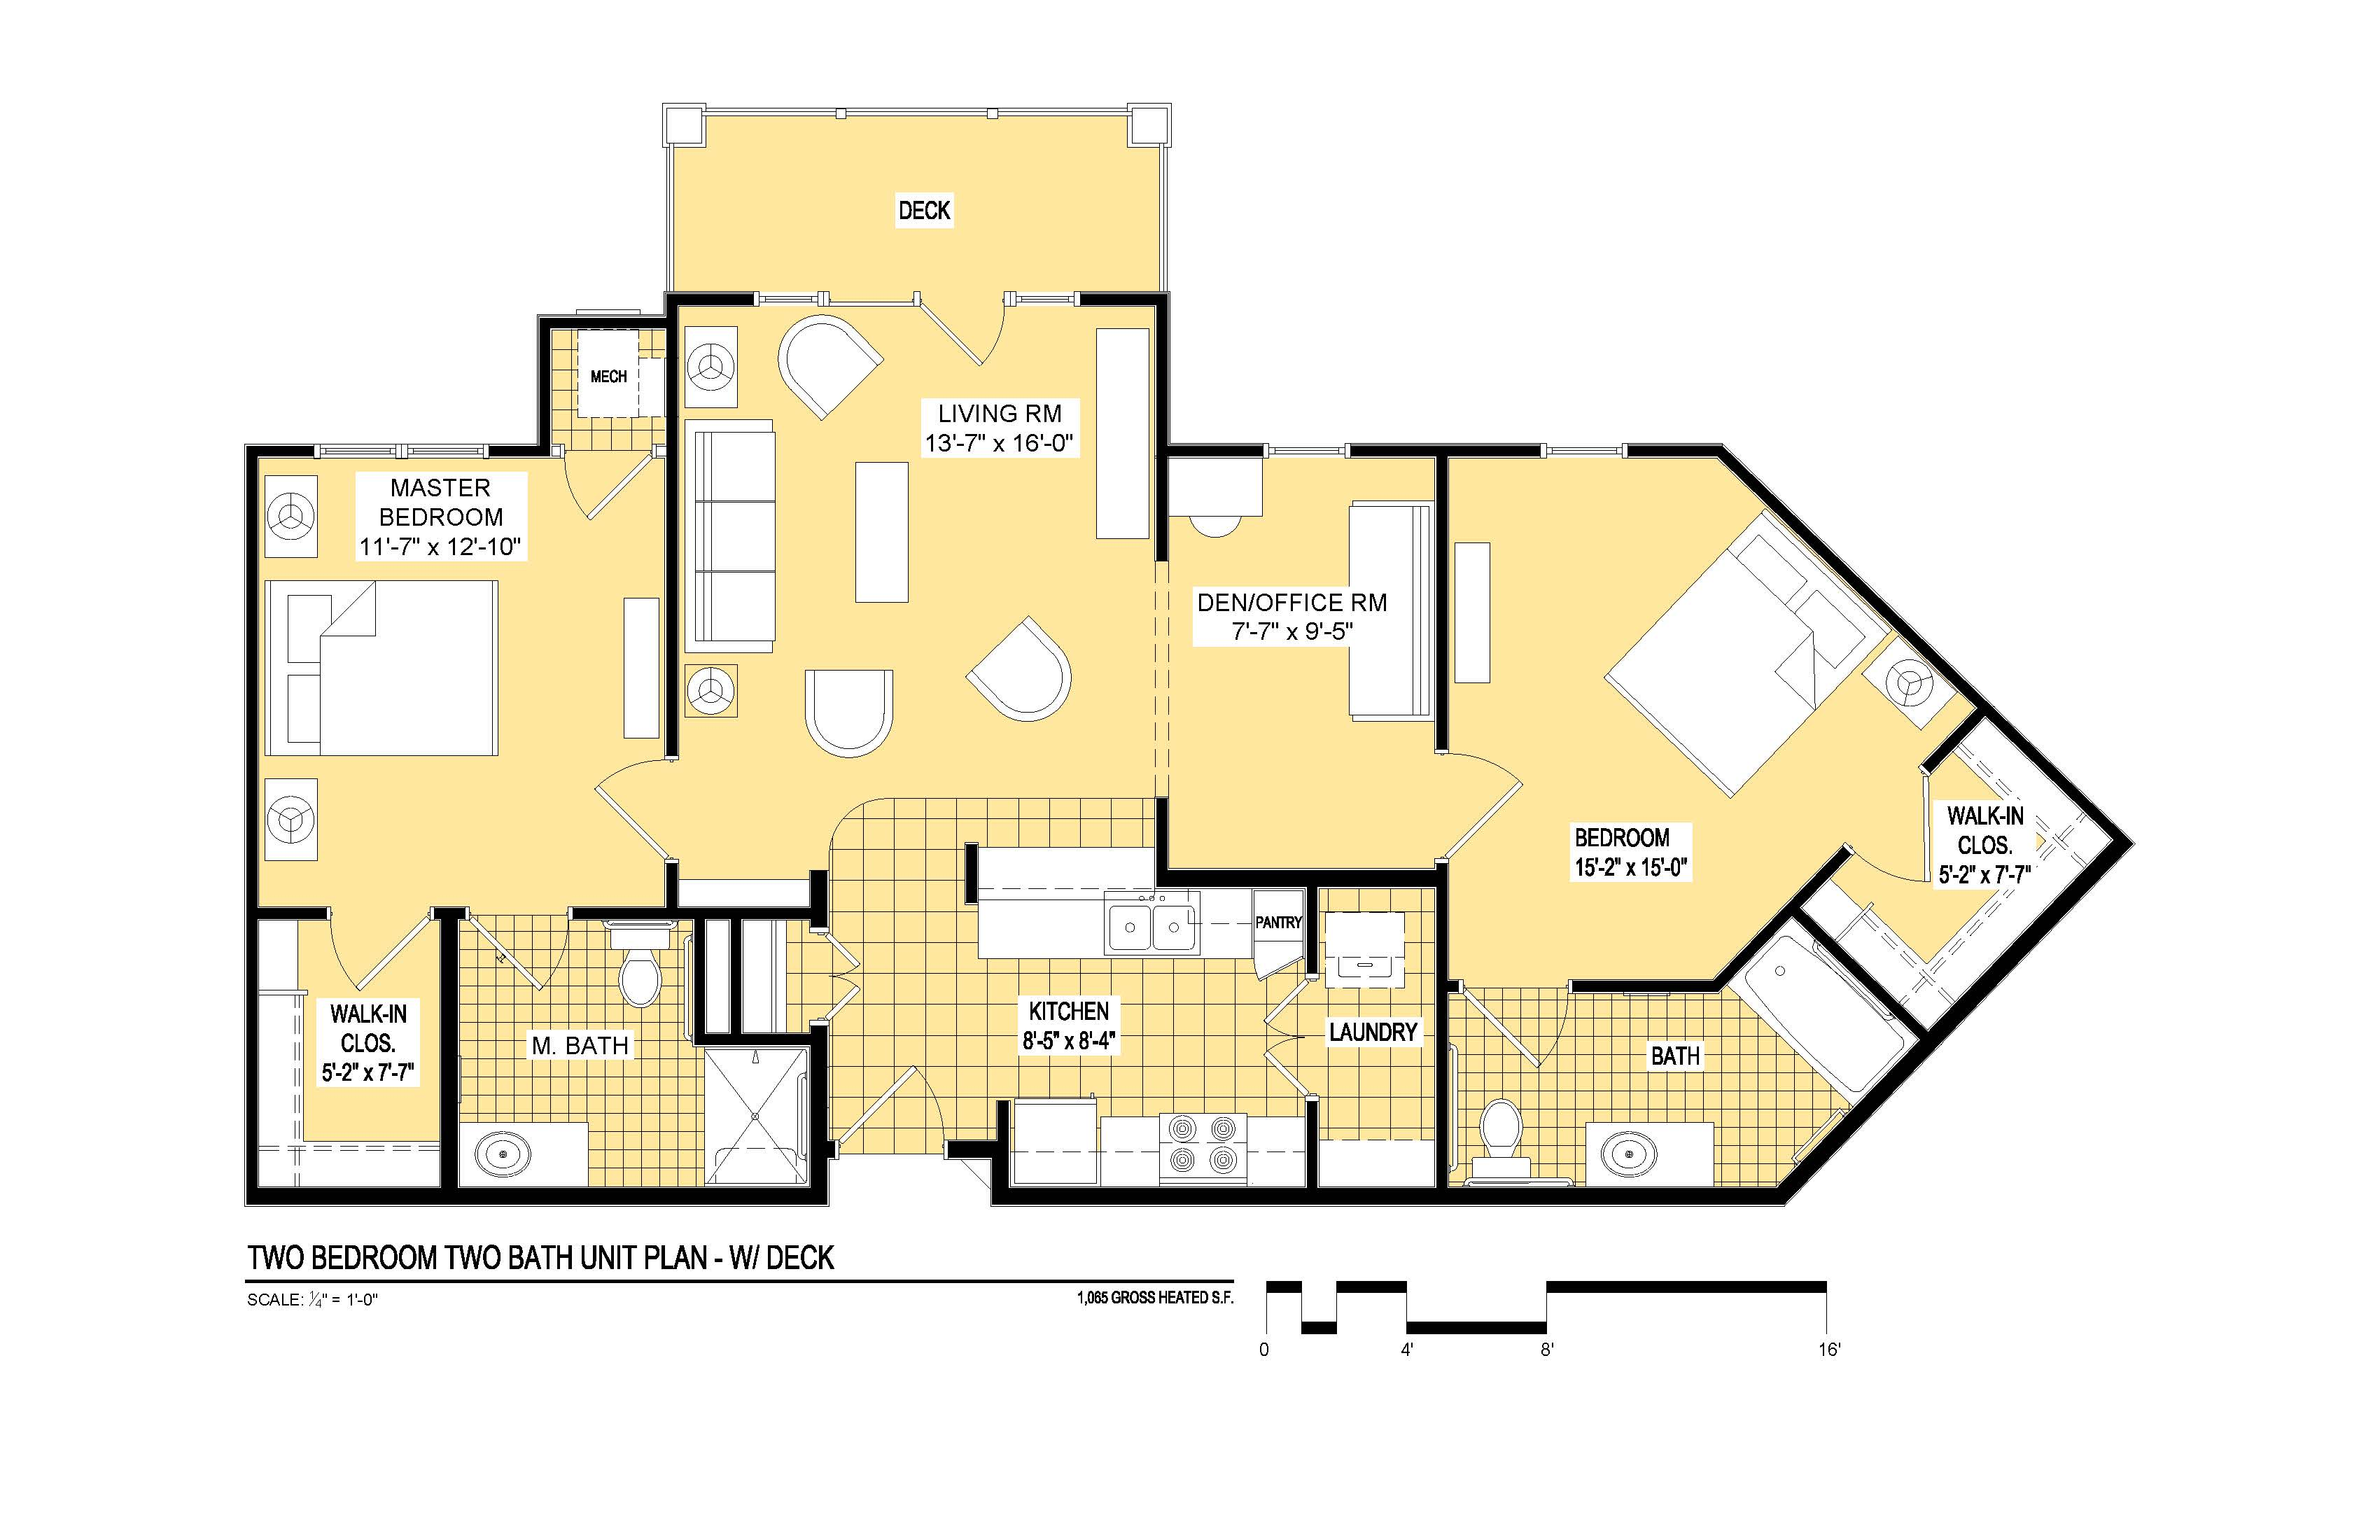wall: (255, 1190, 824, 1205), (246, 449, 257, 1197), (1442, 1184, 1785, 1202), (663, 314, 675, 756), (997, 1186, 1310, 1202), (1436, 869, 1450, 1202), (1433, 446, 1447, 753), (1167, 872, 1435, 888), (572, 904, 826, 919), (442, 919, 456, 1193), (1150, 293, 1161, 562), (541, 312, 557, 453), (1350, 444, 1540, 454), (697, 1030, 824, 1046), (1572, 978, 1714, 992), (1154, 439, 1258, 456), (817, 1030, 827, 1198), (994, 1101, 1011, 1200), (1303, 1098, 1320, 1188), (1629, 442, 1723, 458), (734, 909, 744, 1042), (1154, 796, 1171, 874), (697, 914, 708, 1037), (666, 291, 748, 307), (954, 1139, 1008, 1162), (961, 836, 977, 907), (1079, 293, 1167, 305), (255, 909, 331, 923), (1320, 1190, 1438, 1198), (248, 446, 312, 458), (814, 871, 826, 935), (1785, 900, 1808, 924), (486, 447, 559, 454), (666, 858, 677, 904), (1438, 978, 1461, 989), (435, 909, 468, 916)
